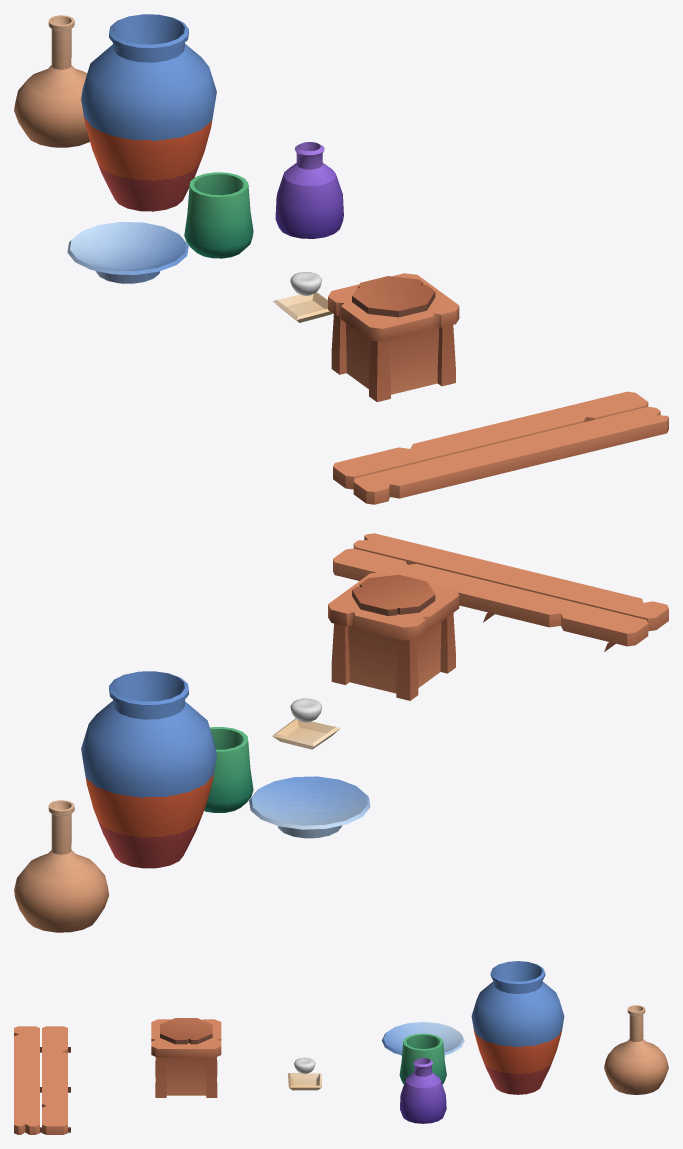
File: misc-pottery.glb
3 views of the same model, one above another, from view 1: azimuth 30°, elevation 25°; view 2: azimuth 150°, elevation 25°; view 3: azimuth 270°, elevation 25° (orthographic). The views are drawn at different scales.
Visible parts, largest first — view 1: JarPot, WallShelf, workbench, Jug2Pot, PlatePot, GlassPot, JugPot, spinning_plate, SpongePlate; view 2: JarPot, WallShelf, workbench, Jug2Pot, PlatePot, GlassPot, spinning_plate, SpongePlate, Sponge; view 3: JarPot, WallShelf, workbench, Jug2Pot, JugPot, GlassPot, PlatePot, spinning_plate, SpongePlate, Sponge.
Boxes of the visible parts, left/top/right/bottom form: JarPot: left=81, top=14, right=216, bottom=211; WallShelf: left=333, top=391, right=668, bottom=504; workbench: left=328, top=273, right=459, bottom=401; Jug2Pot: left=14, top=15, right=89, bottom=147; PlatePot: left=67, top=222, right=188, bottom=283; GlassPot: left=184, top=172, right=253, bottom=258; JugPot: left=275, top=142, right=343, bottom=238; spinning_plate: left=352, top=276, right=435, bottom=317; SpongePlate: left=273, top=292, right=332, bottom=322; JarPot: left=81, top=671, right=216, bottom=868; WallShelf: left=333, top=533, right=668, bottom=652; workbench: left=328, top=572, right=459, bottom=700; Jug2Pot: left=14, top=800, right=109, bottom=932; PlatePot: left=249, top=776, right=370, bottom=838; GlassPot: left=204, top=727, right=253, bottom=812; spinning_plate: left=352, top=574, right=435, bottom=616; SpongePlate: left=272, top=718, right=340, bottom=749; Sponge: left=290, top=698, right=321, bottom=722; JarPot: left=471, top=961, right=564, bottom=1094; WallShelf: left=14, top=1026, right=70, bottom=1134; workbench: left=151, top=1019, right=221, bottom=1097; Jug2Pot: left=604, top=1005, right=668, bottom=1094; JugPot: left=400, top=1058, right=446, bottom=1123; GlassPot: left=399, top=1033, right=446, bottom=1084; PlatePot: left=382, top=1022, right=464, bottom=1056; spinning_plate: left=160, top=1018, right=212, bottom=1044; SpongePlate: left=287, top=1073, right=321, bottom=1090; Sponge: left=294, top=1057, right=315, bottom=1073.
Size of the model in its own units: 1 by 0.5589 by 2.76.
Materials: 2 (2 with a texture image).
